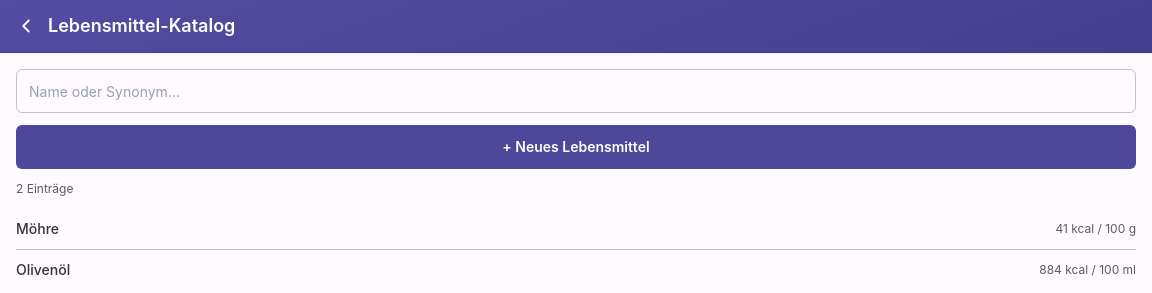
Test: CatalogManagerScreen — list › filters by synonym, folding diacritics and case
This screenshot has width=1152, height=293.
Expected: the text "Möhre" is shown, [16,220,59,237]
Type "KAROTTE" into the search field.
click(576, 91); type("KAROTTE")  # box [16,69,1136,113]
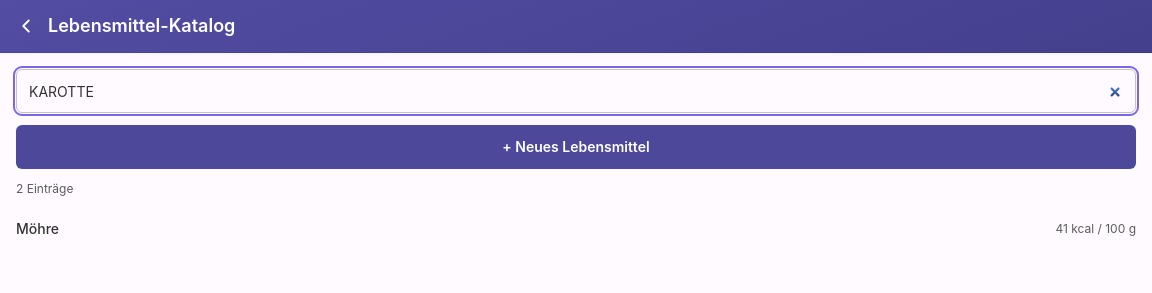
Expected: the text "Möhre" is shown, [16,220,59,237]
Result: the button "Olivenöl" is gone
